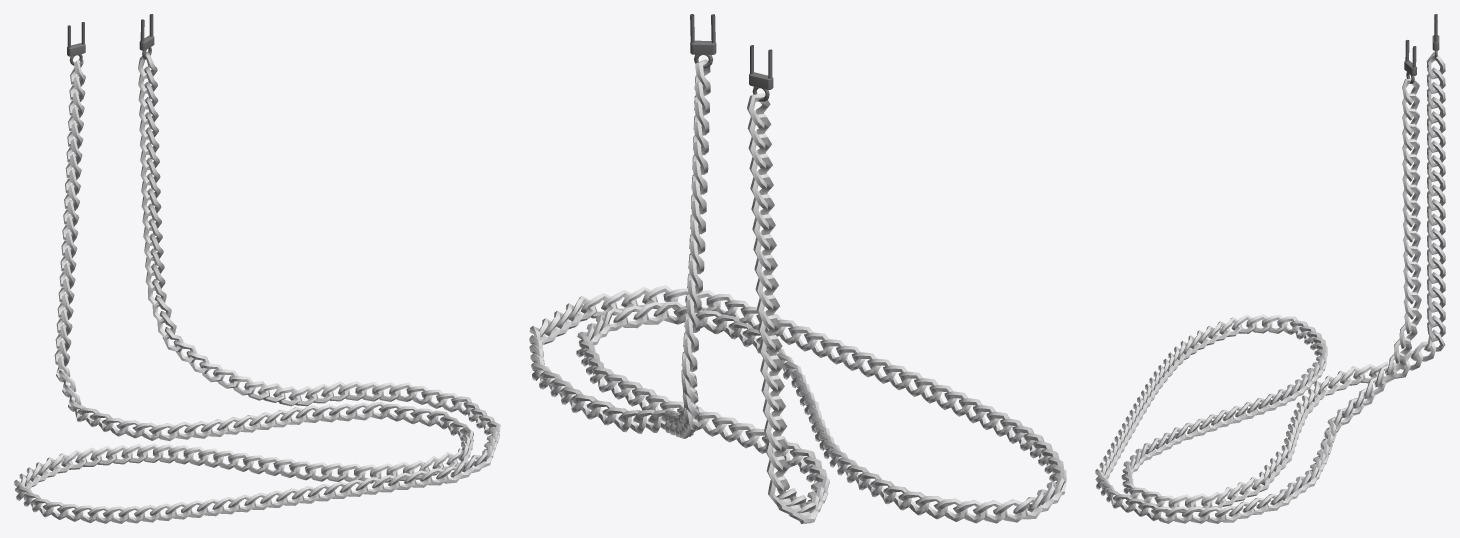
Rendered from strap3.fbx.
The picture shows the model from 3 angles, left to right: view 1: azimuth 30°, elevation 25°; view 2: azimuth 150°, elevation 25°; view 3: azimuth 270°, elevation 25°; orthographic projection. The views are drawn at different scales.
Visible parts, largest first — view 1: Strap08.001; view 2: Strap08.001; view 3: Strap08.001.
Part boxes in pixels (box(x1,y1,x2,y2)): Strap08.001: box(14, 14, 500, 523); Strap08.001: box(529, 14, 1066, 523); Strap08.001: box(1095, 14, 1445, 523).
Bounding box in the file's own units: 454 × 398 × 332.
